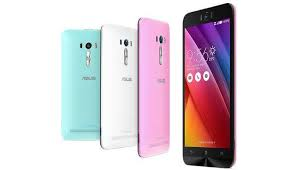asus: (179, 5, 241, 170), (135, 14, 173, 159), (58, 25, 101, 144), (98, 21, 135, 153)
